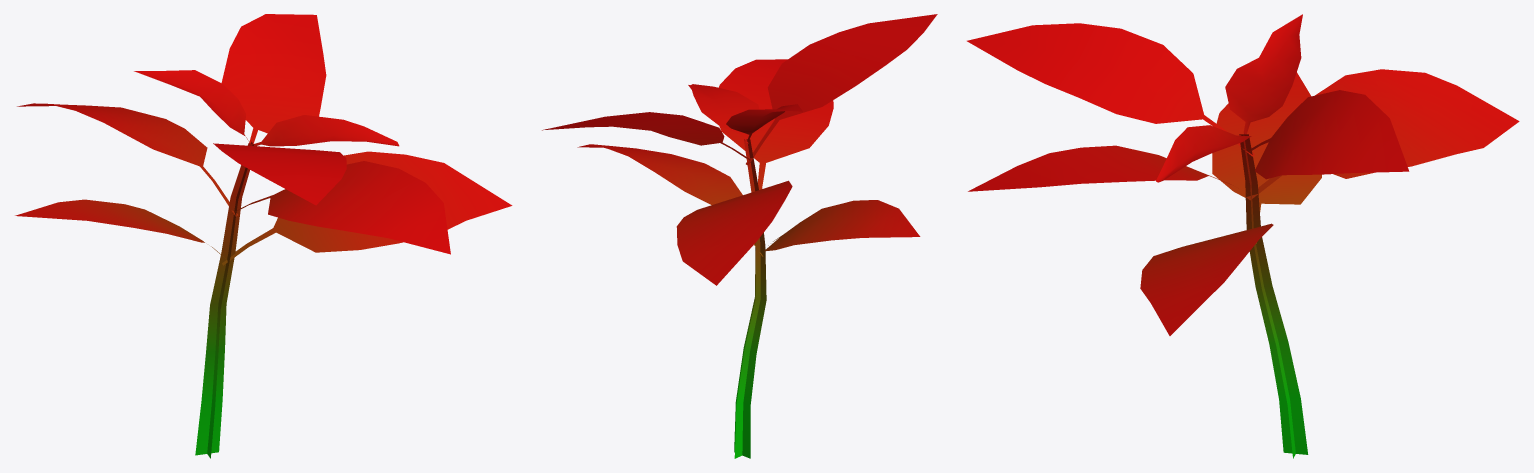
File: Common Hemp Nettle_LOD3_Var1_xh1kdfbqx.fbx
The picture shows the model from 3 angles, left to right: view 1: azimuth 30°, elevation 25°; view 2: azimuth 150°, elevation 25°; view 3: azimuth 270°, elevation 25°; orthographic projection. The views are drawn at different scales.
Parts seen in each view (by area): view 1: _u1p9_Var1_LOD3; view 2: _u1p9_Var1_LOD3; view 3: _u1p9_Var1_LOD3.
Part boxes in pixels (left/top/right/bottom): _u1p9_Var1_LOD3: left=15, top=14, right=512, bottom=458; _u1p9_Var1_LOD3: left=542, top=14, right=937, bottom=458; _u1p9_Var1_LOD3: left=967, top=14, right=1519, bottom=458.
Bounding box in the file's own units: 29.05 × 25.21 × 31.22.
